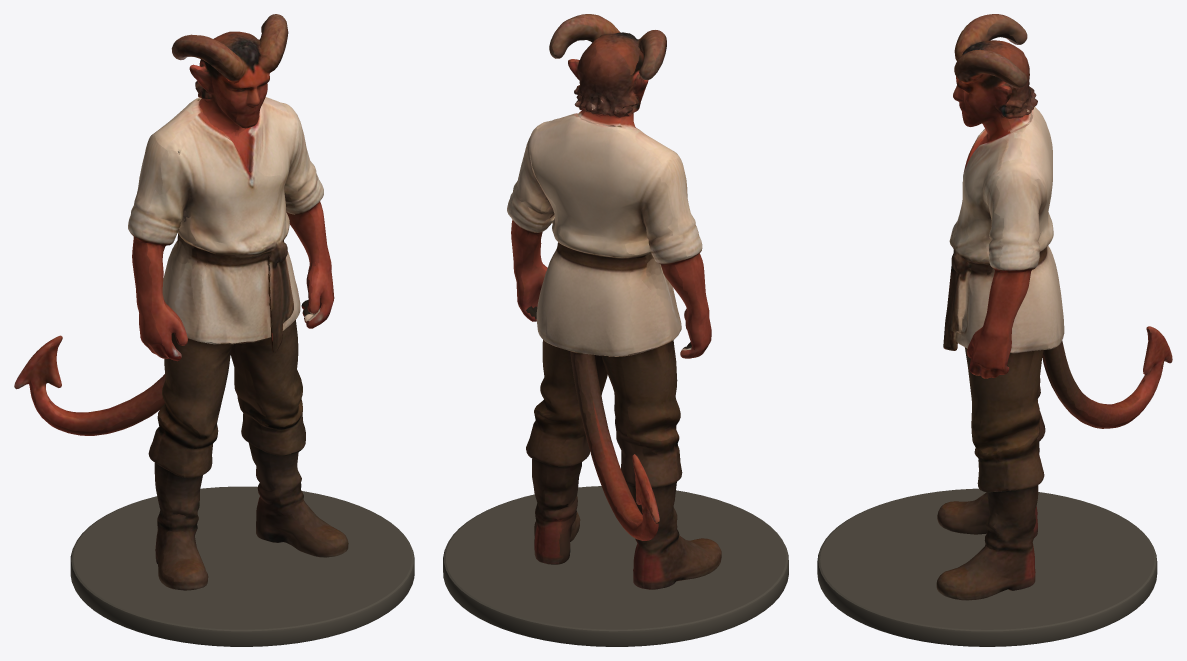
The model's file is tiefling-commoner.glb.
3 views of the same model, side by side, from view 1: azimuth 30°, elevation 25°; view 2: azimuth 150°, elevation 25°; view 3: azimuth 270°, elevation 25° (orthographic).
Visible parts, largest first — view 1: tiefling-commoner_body, tiefling-commoner_round_base; view 2: tiefling-commoner_body, tiefling-commoner_round_base; view 3: tiefling-commoner_body, tiefling-commoner_round_base.
Boxes of the visible parts, x1=… form: tiefling-commoner_body: x1=14, y1=14, x2=348, y2=590; tiefling-commoner_round_base: x1=70, y1=486, x2=414, y2=646; tiefling-commoner_body: x1=507, y1=14, x2=721, y2=589; tiefling-commoner_round_base: x1=443, y1=486, x2=788, y2=646; tiefling-commoner_body: x1=936, y1=14, x2=1172, y2=600; tiefling-commoner_round_base: x1=817, y1=488, x2=1157, y2=646.
Size of the model in its own units: 1 by 1.75 by 1.05.
Materials: 2 (1 with a texture image).
